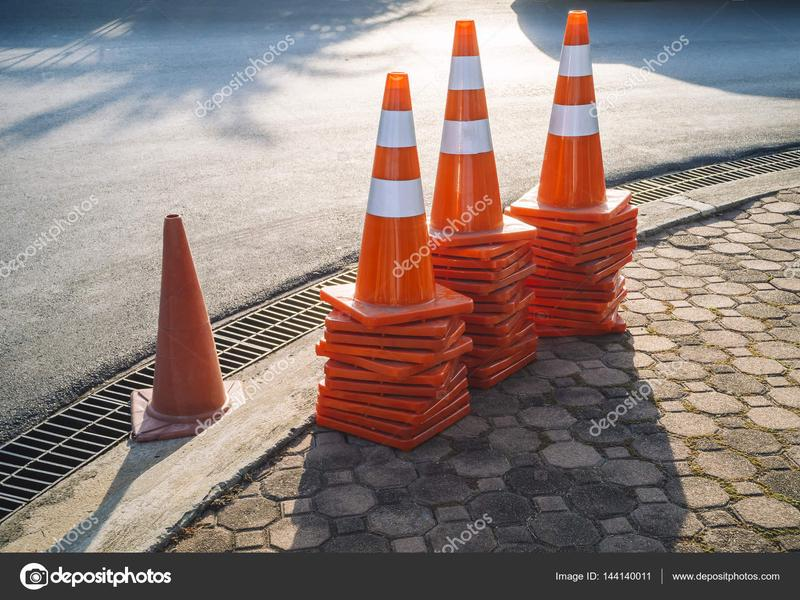Cone: (127, 213, 259, 442)
